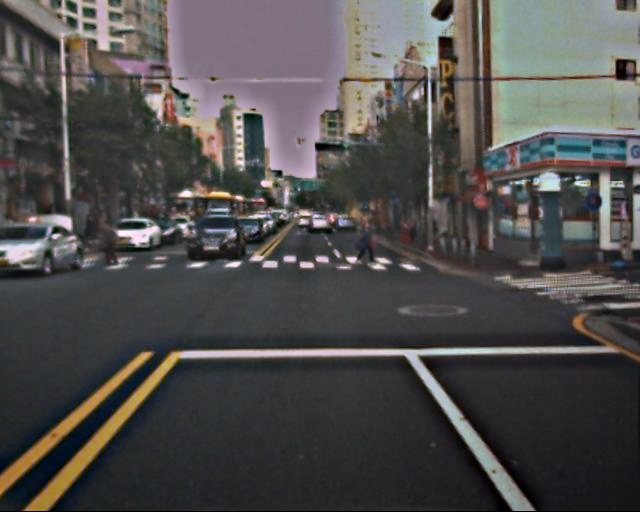person: (98, 219, 119, 270), (355, 220, 375, 269)
